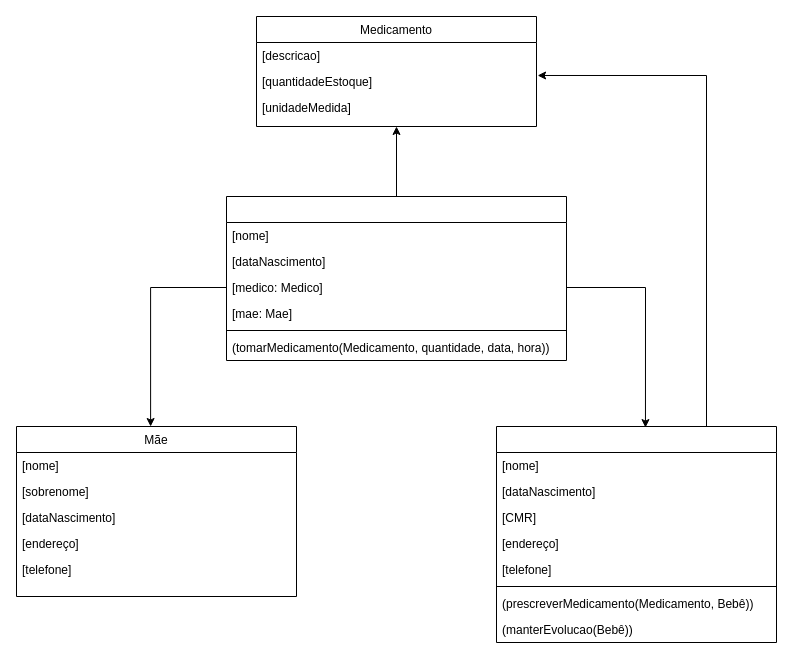
This 793x659 diagram has some shape labels left out. Here are the shapes that lost their labels. From the top down, the box of each, then its label:
(226, 196, 566, 360): Bebê
(496, 426, 776, 642): Médico
